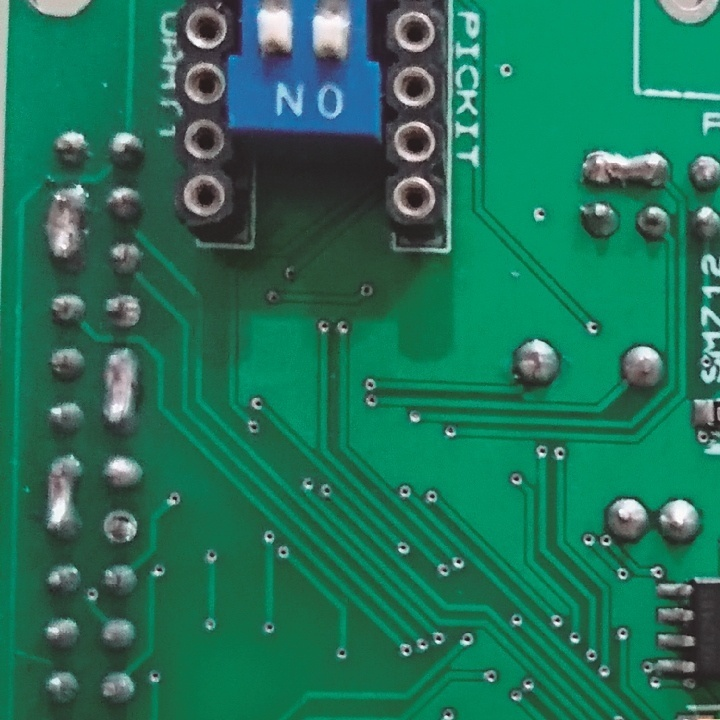F: (99, 505, 140, 550)
P: (41, 182, 93, 267), (581, 146, 676, 192), (45, 453, 85, 542), (101, 346, 139, 433)
